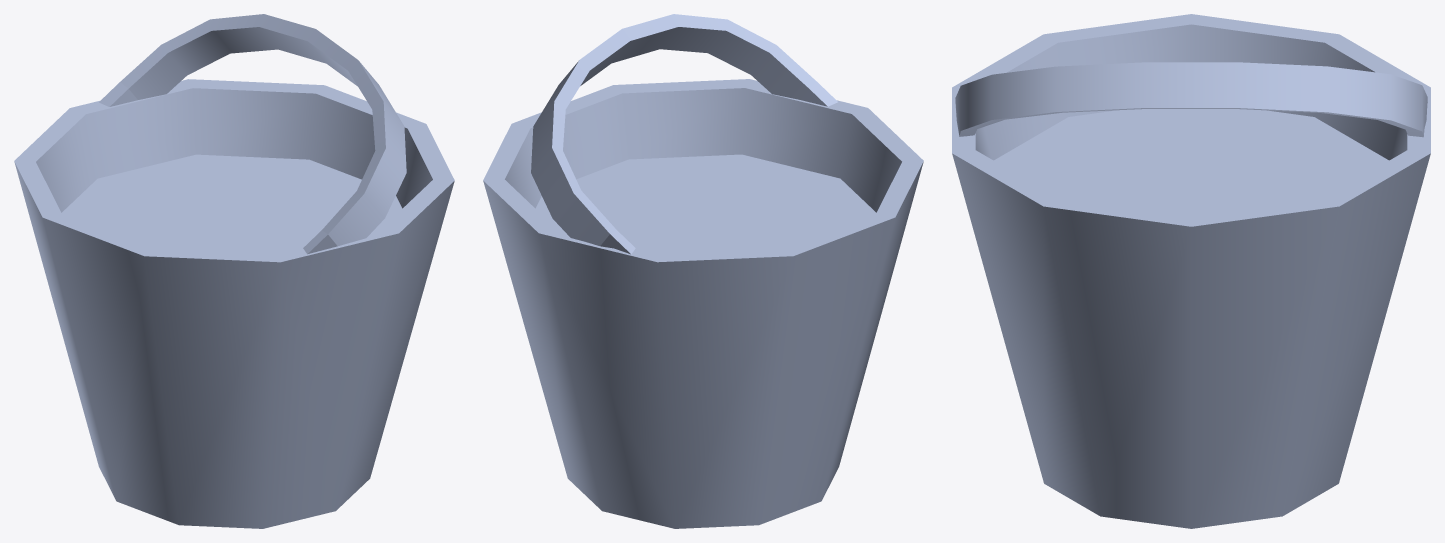
The model's file is Balde lleno.fbx.
3 renders of one model, left to right at view 1: azimuth 30°, elevation 25°; view 2: azimuth 150°, elevation 25°; view 3: azimuth 270°, elevation 25°, orthographic. The views are drawn at different scales.
Parts seen in each view (by area): view 1: Balde_Lleno; view 2: Balde_Lleno; view 3: Balde_Lleno.
Part boxes in pixels (<box>): Balde_Lleno: <box>14,14,454,528</box>; Balde_Lleno: <box>483,14,923,528</box>; Balde_Lleno: <box>952,14,1430,528</box>.
Size of the model in its own units: 0.5469 by 0.5489 by 0.5202.
